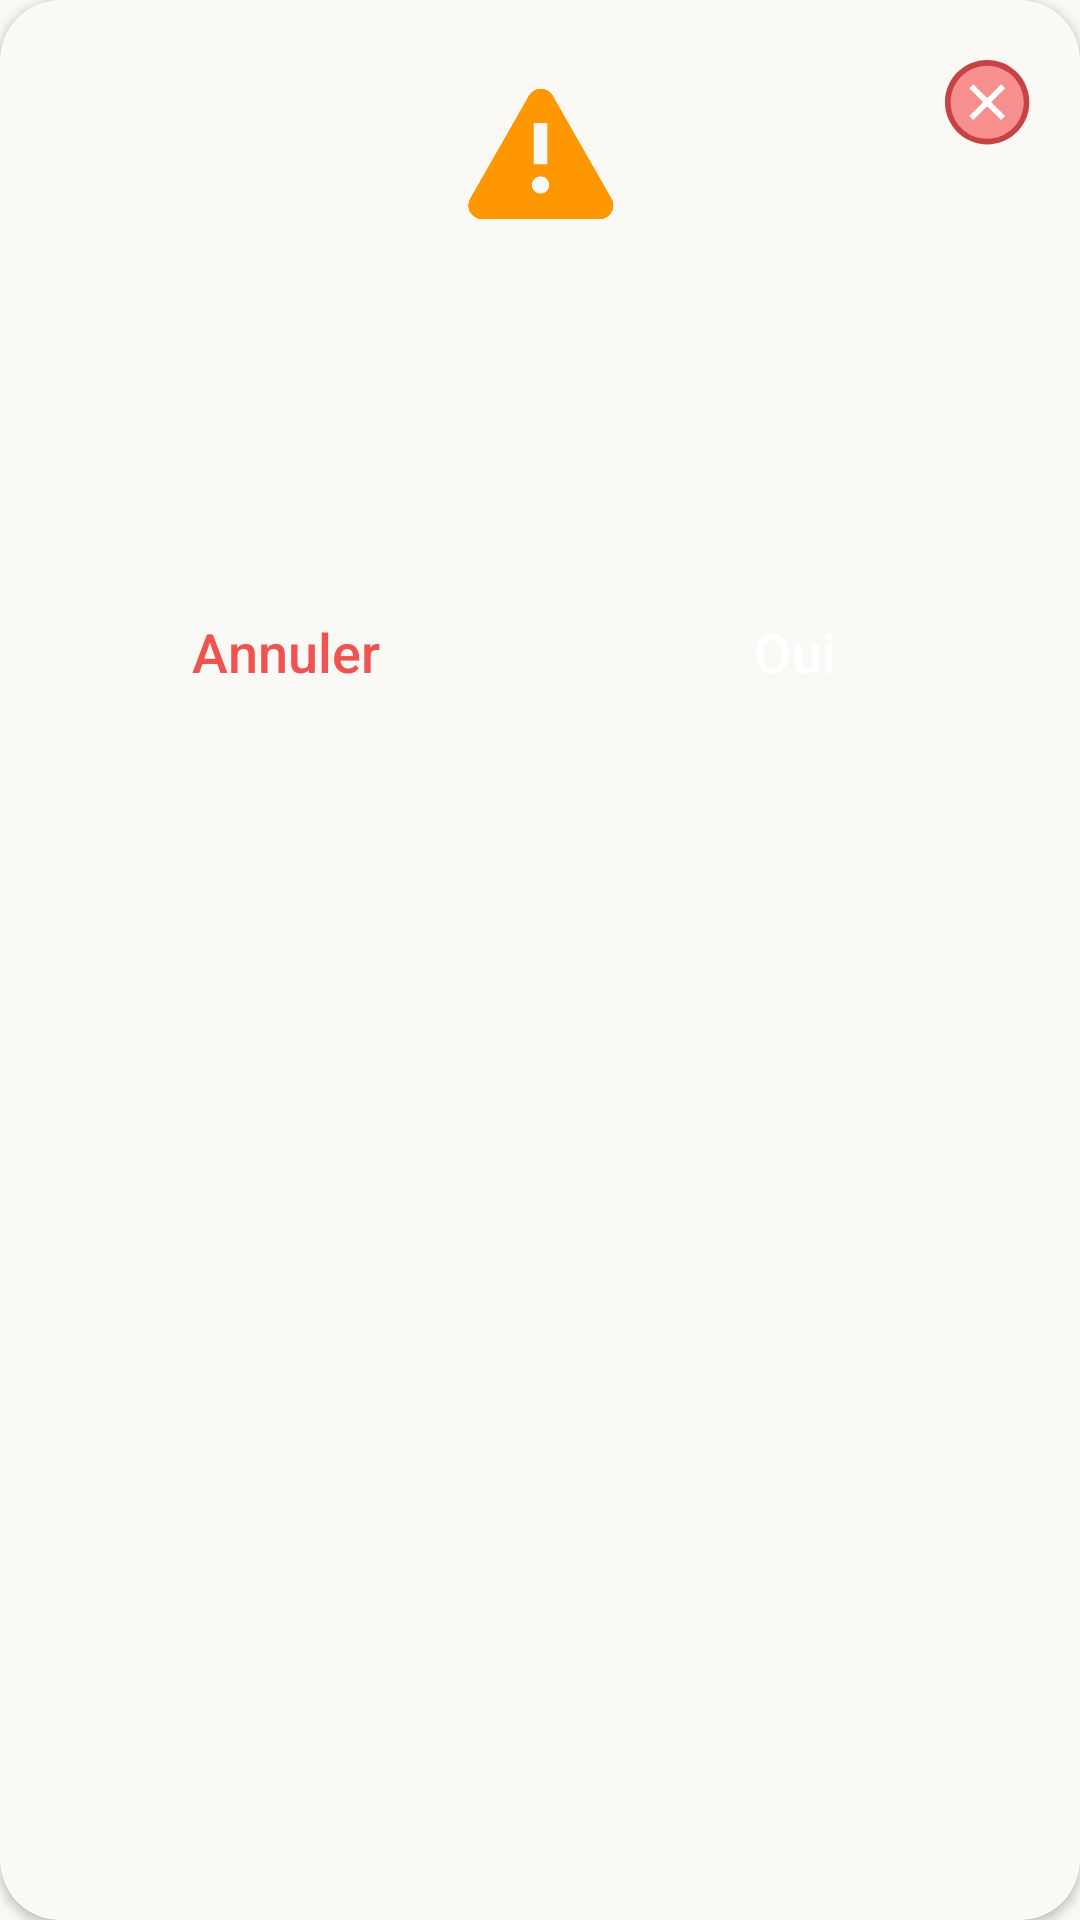

Screen size 1080w x 1920h. Icon name, then its box in pixels as (x1, y1, x2, y2):
cancel: (945, 60, 1030, 145)
warning: (468, 89, 614, 219)
